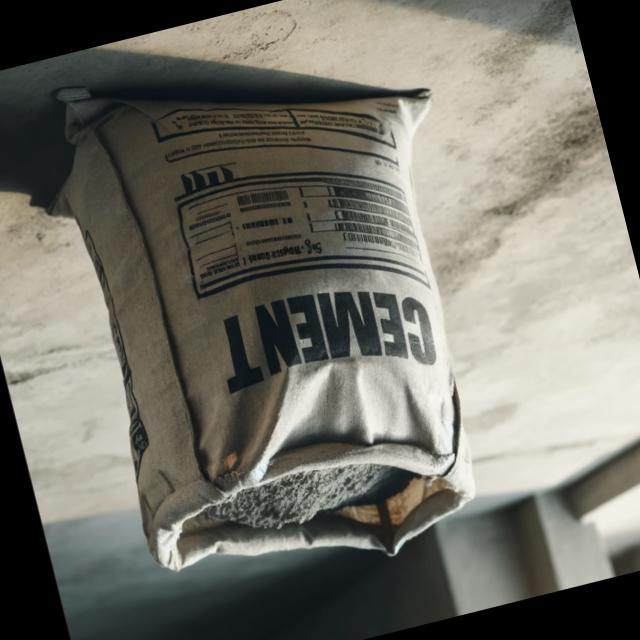KantongSemen: (18, 1, 538, 618)
